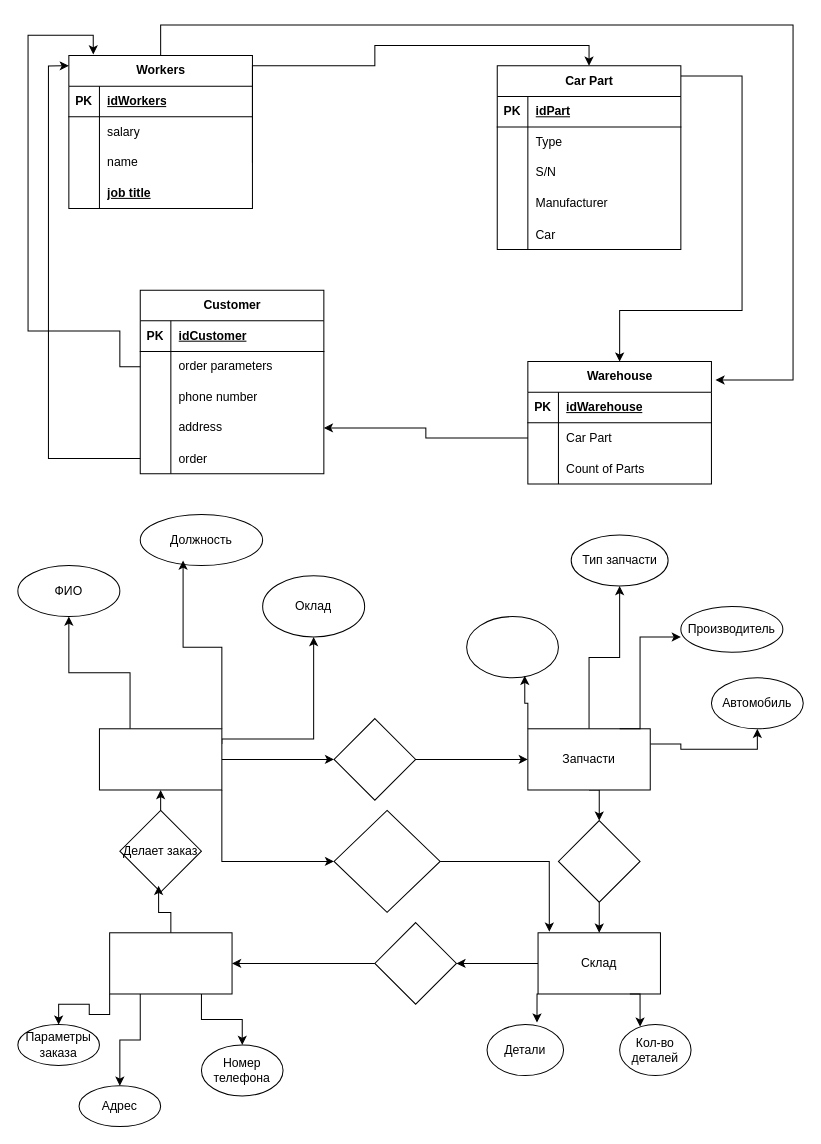
This 821x1144 diagram has some shape labels left out. Here are the shapes that lost their labels. From the top down, the centre of each, then its label:
the point at 512,647: Серийный номер
the point at 160,759: Работники
the point at 374,759: Делают запчасти
the point at 386,860: Отправляют запрос заказа на склад
the point at 598,861: Отправляются на склад
the point at 170,963: Заказчик
the point at 415,963: Отправляет запчасти
